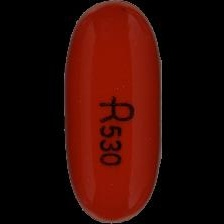68084-923: (0, 0, 224, 224)
